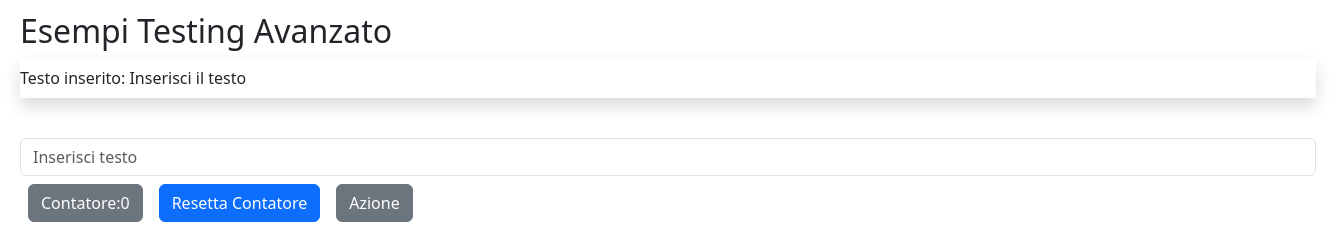
Test: App Component › facendo clic sul bottone, il contatore aumenta
Click the button with test id "counter-button".
click(85, 203)  # box [28,184,143,222]
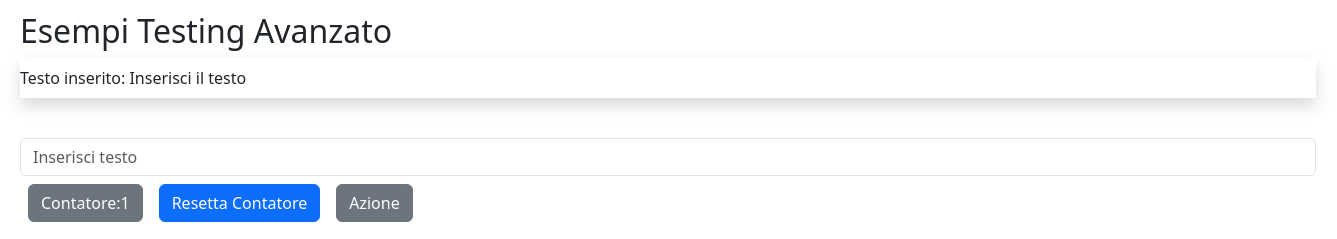
Expected: the button "Contatore:1" is shown, [28,184,143,222]
